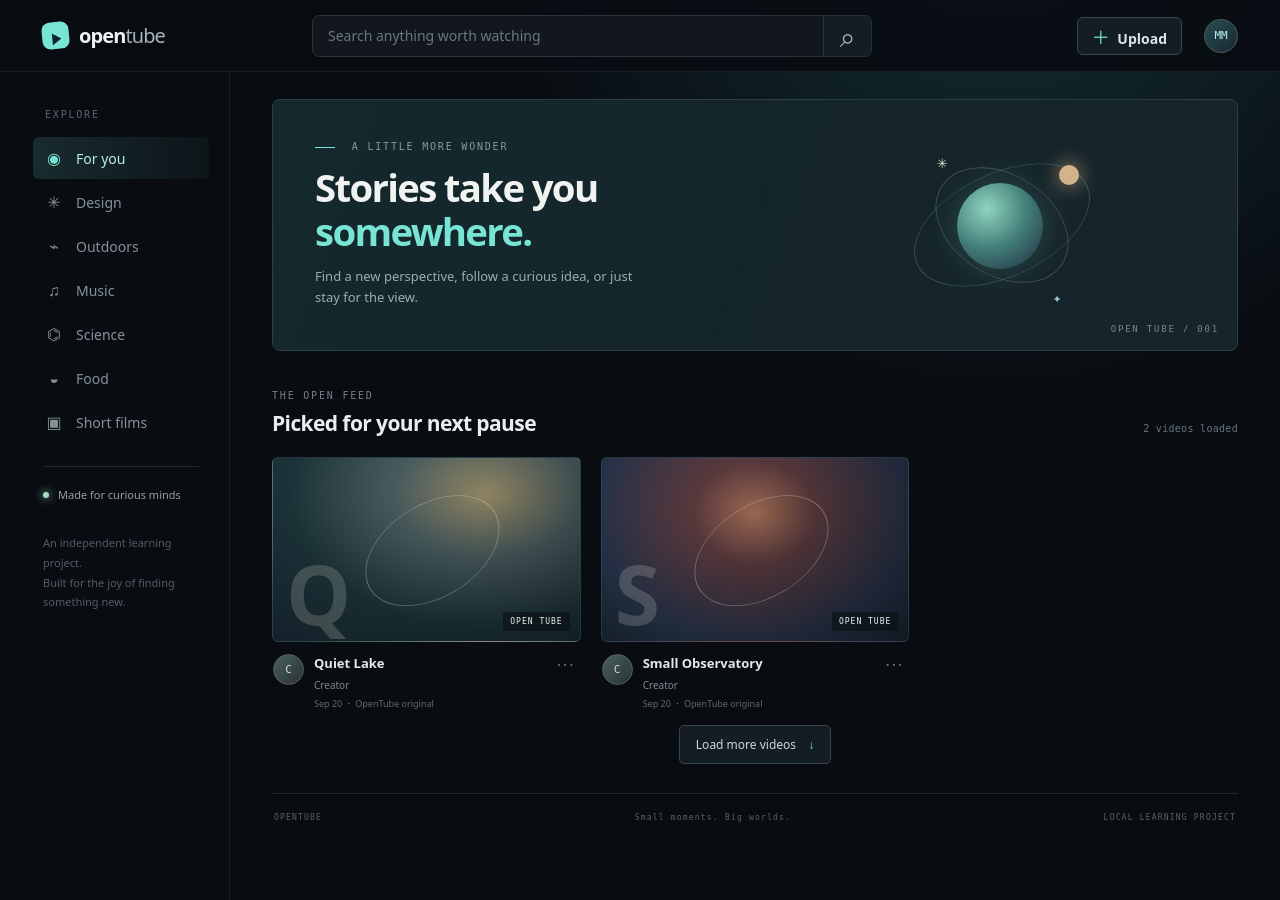
OpenTube feed and creator flows › shows the persistent signed-in indicator after a successful login
Click the button "MM" at (1221, 36), box [1204,18,1238,52]
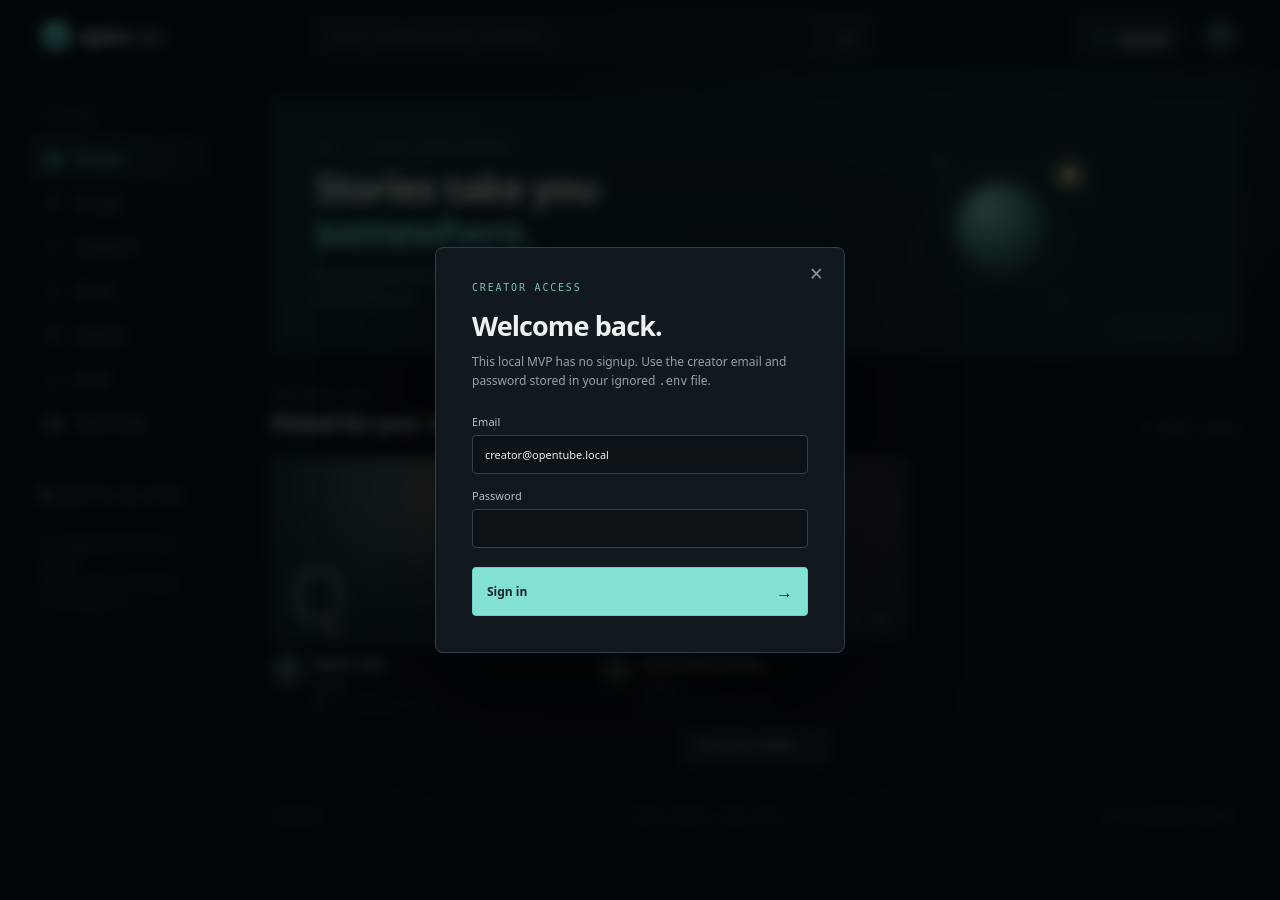
Type "synthetic-test-password" into the password field labelled "Password" at (640, 529), box [472,509,808,548]
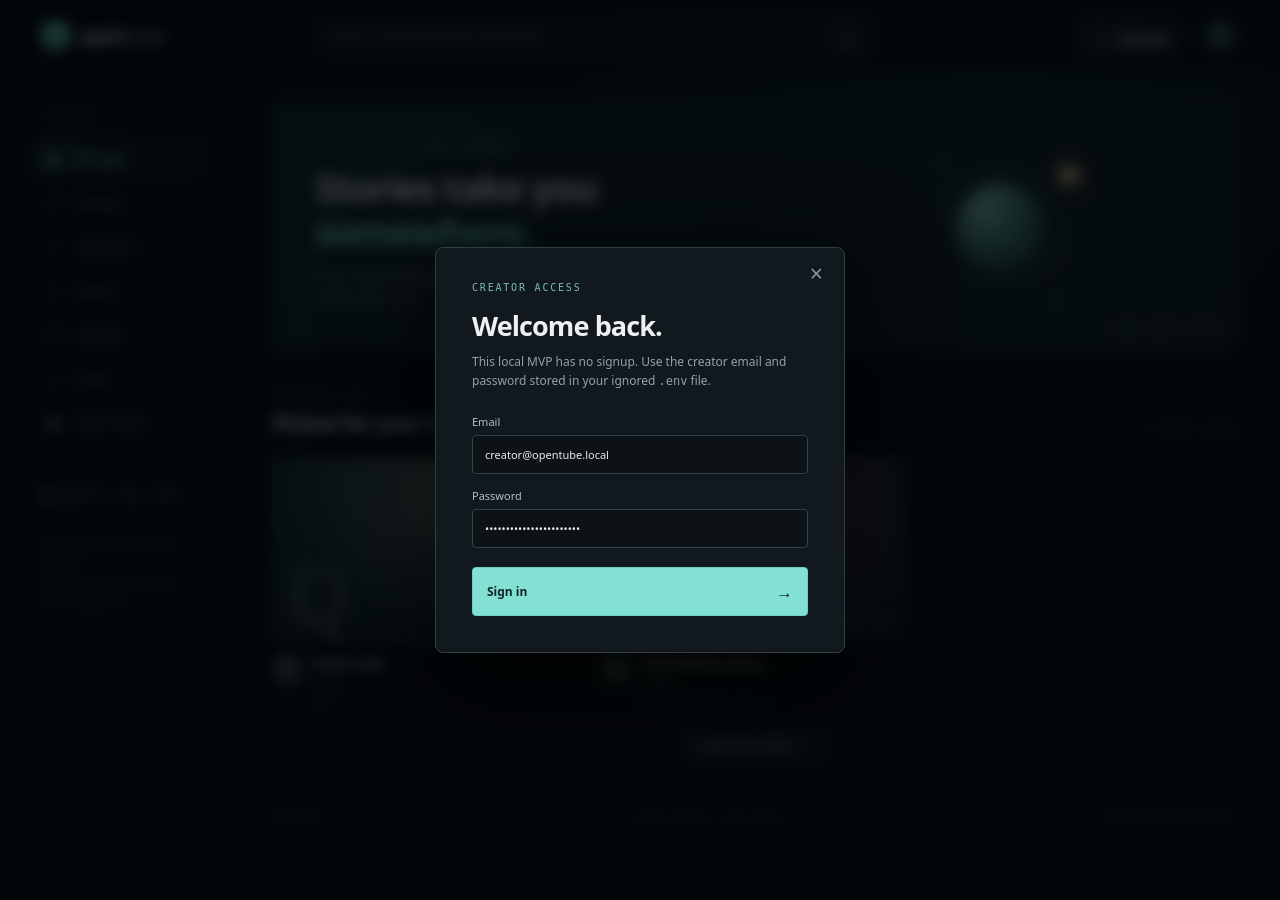
Submit the form, box [472,414,808,616]
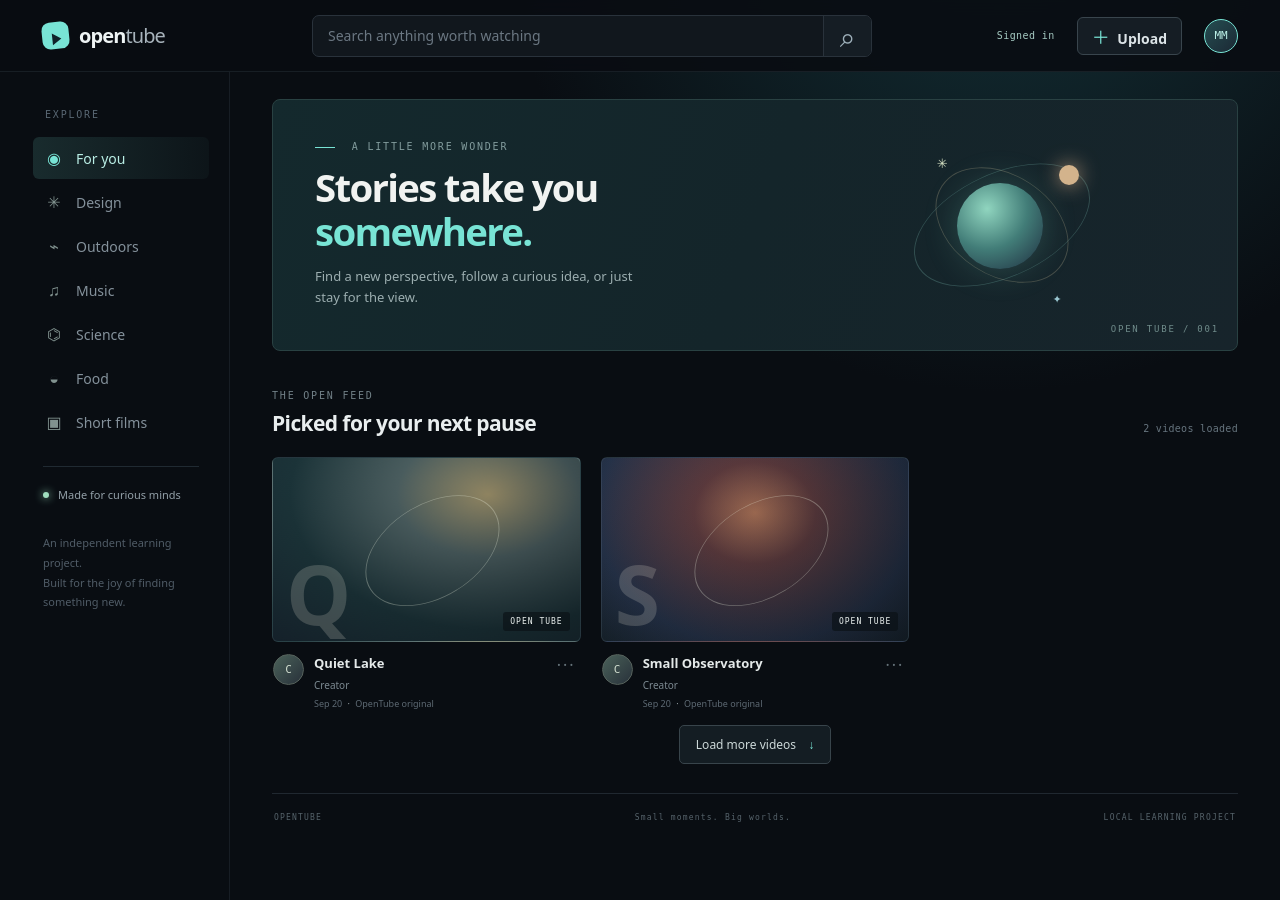
Result: the text "Signed in" is shown at [997,30,1055,41]
